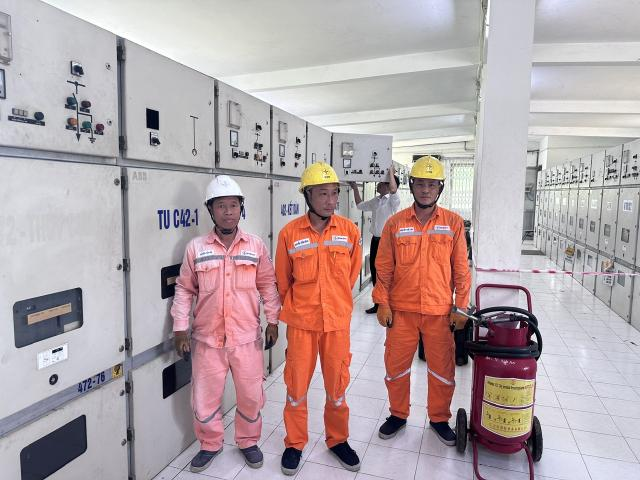gloves: (168, 329, 204, 370), (256, 317, 285, 346), (448, 299, 472, 331), (375, 304, 396, 325)
helmet: (286, 156, 344, 201), (198, 171, 257, 211), (388, 151, 452, 187)
shoes: (179, 427, 224, 472), (321, 431, 367, 475), (269, 432, 307, 475), (226, 431, 266, 466), (426, 409, 458, 447), (373, 404, 406, 440)
